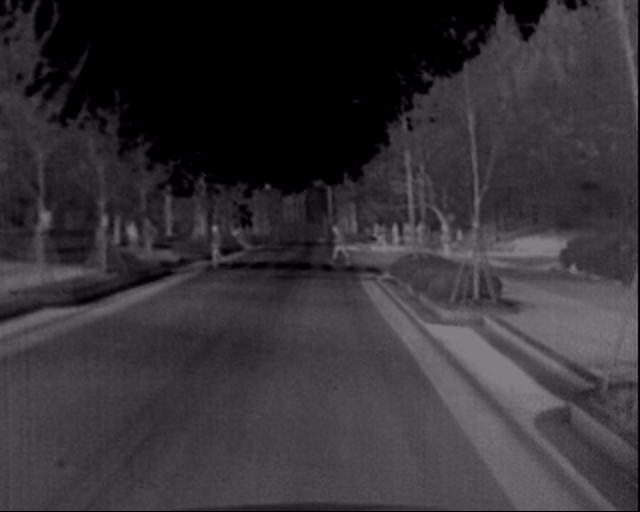person: (197, 222, 225, 272), (325, 217, 349, 270)
